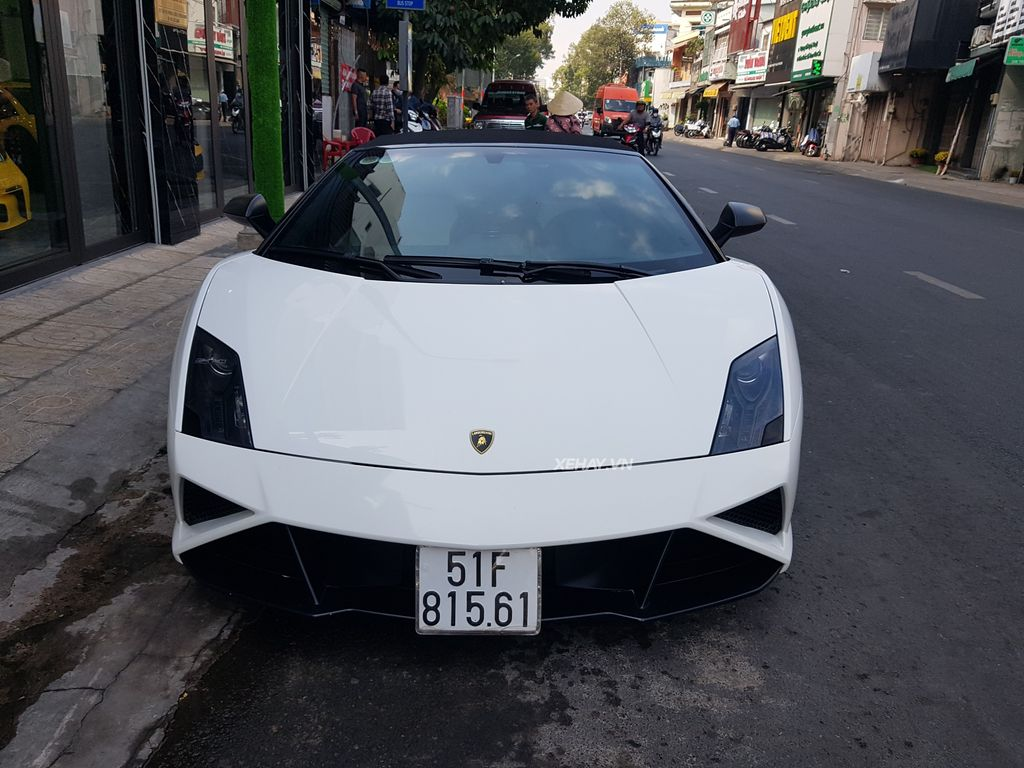number_plate: (418, 547, 540, 634)
